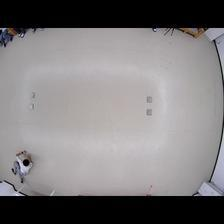fall: (8, 150, 35, 186)
